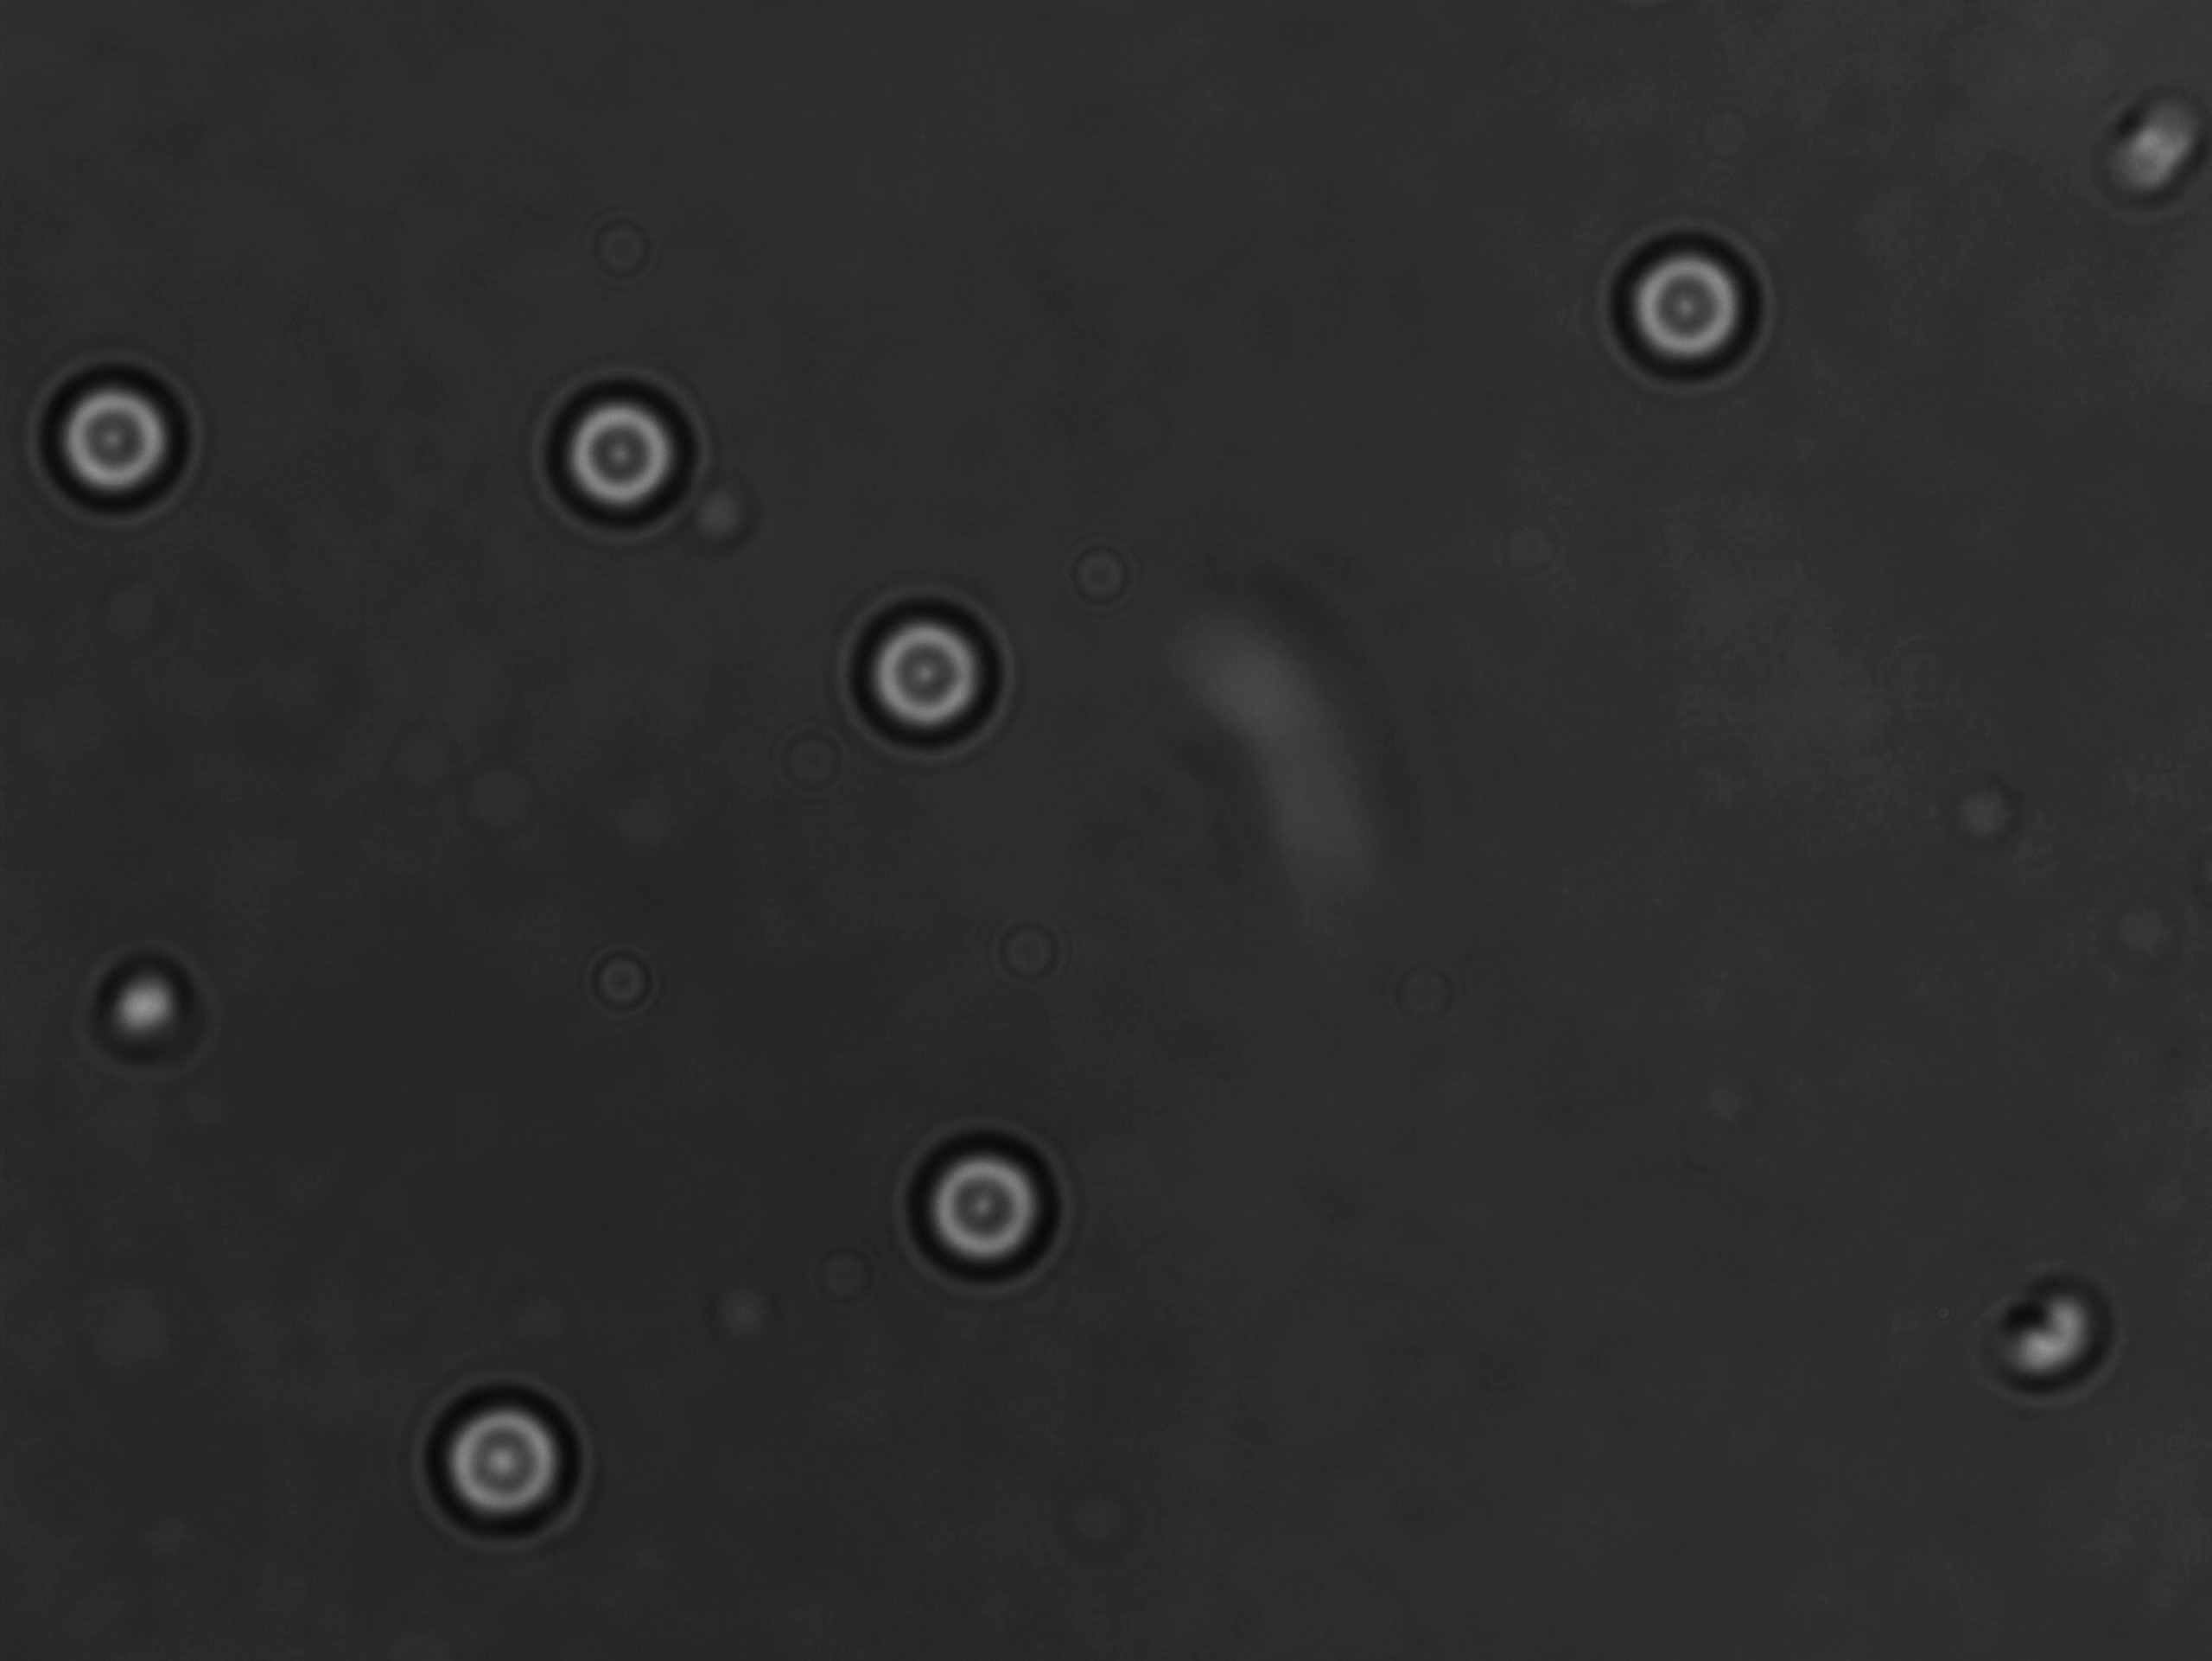depth:40: (420, 1364, 598, 1548), (31, 361, 211, 541), (830, 579, 1010, 754), (534, 361, 712, 536), (1594, 230, 1776, 391), (900, 1115, 1066, 1288)
